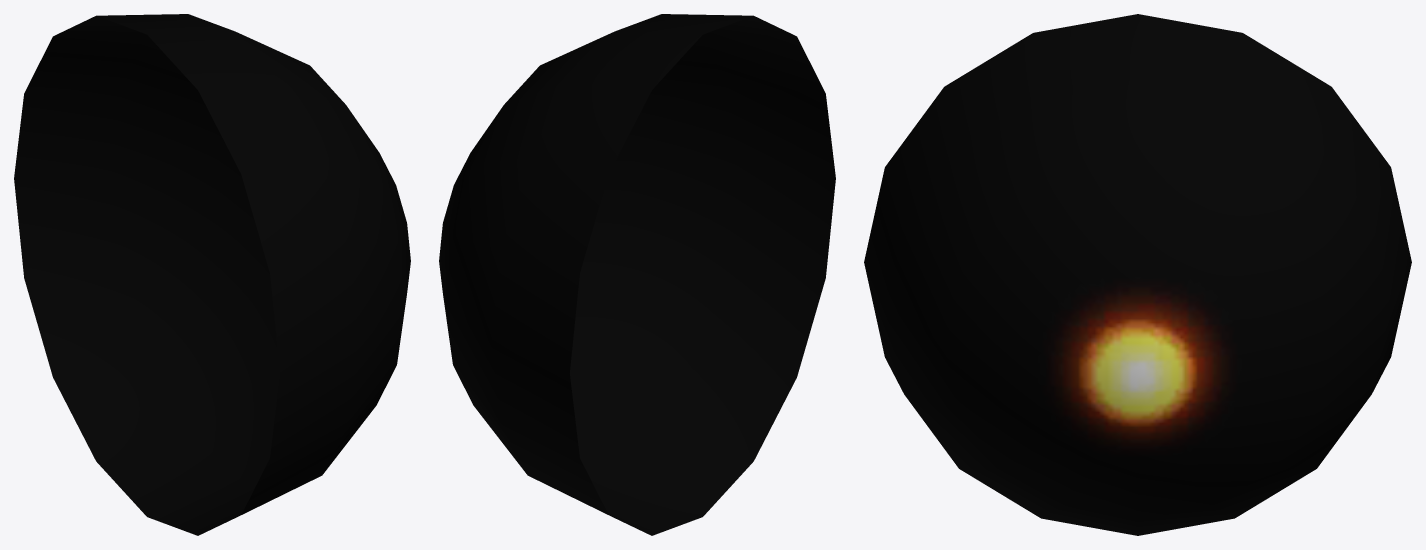
File: 0483_xuanwu_qiladina.glb
3 renders of one model, left to right at view 1: azimuth 30°, elevation 25°; view 2: azimuth 150°, elevation 25°; view 3: azimuth 270°, elevation 25°, orthographic. The views are drawn at different scales.
Size of the model in its own units: 1.1 by 2.2 by 2.2.
1 material, 1 textured.
